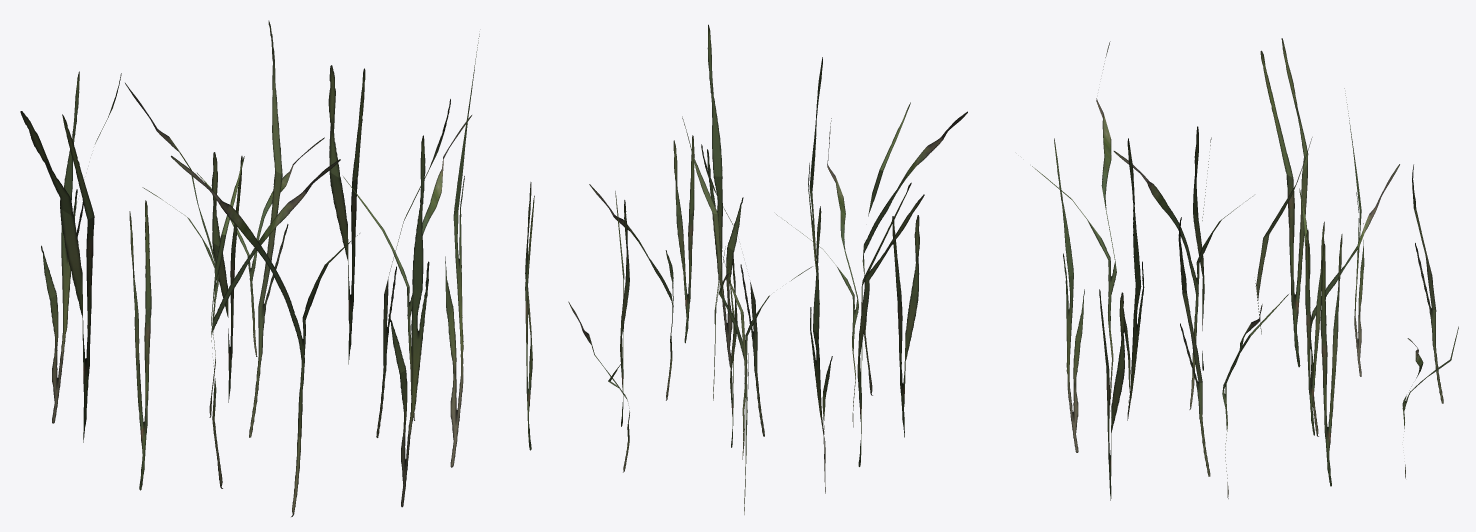
File: Bahiagrass_LOD0.fbx
3 views of the same model, side by side, from view 1: azimuth 30°, elevation 25°; view 2: azimuth 150°, elevation 25°; view 3: azimuth 270°, elevation 25° (orthographic). The views are drawn at different scales.
Parts seen in each view (by area): view 1: Bahiagrass_LOD0; view 2: Bahiagrass_LOD0; view 3: Bahiagrass_LOD0.
Boxes of the visible parts, x1,y1,x2,y2 form: Bahiagrass_LOD0: [20, 20, 534, 516]; Bahiagrass_LOD0: [568, 24, 967, 514]; Bahiagrass_LOD0: [1032, 38, 1458, 500].
Size of the model in its own units: 0.472 by 0.4455 by 0.4991.
